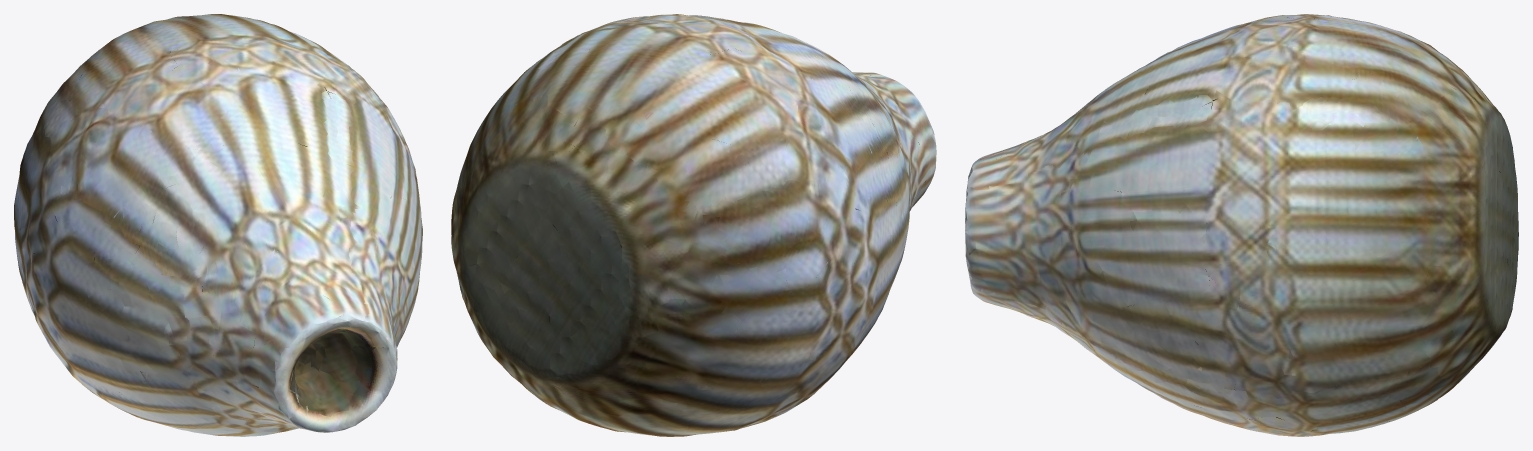
File: spar3d.glb
3 views of the same model, side by side, from view 1: azimuth 30°, elevation 25°; view 2: azimuth 150°, elevation 25°; view 3: azimuth 270°, elevation 25° (orthographic). The views are drawn at different scales.
Parts seen in each view (by area): view 1: world; view 2: world; view 3: world.
Part boxes in pixels (x1,y1,x2,y2): world: (14,14,422,436); world: (451,14,936,436); world: (965,14,1518,436).
Bounding box in the file's own units: 0.7659 × 0.7593 × 0.9958.
1 material, 1 textured.
